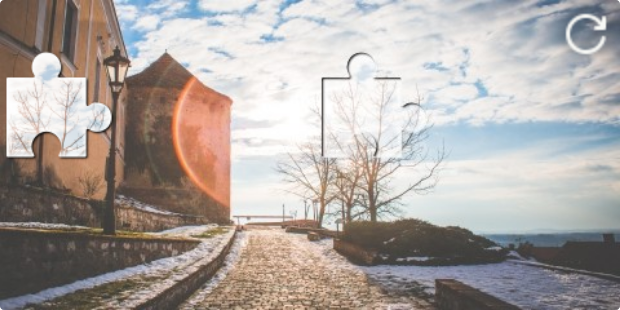target: (321, 52, 425, 158)
